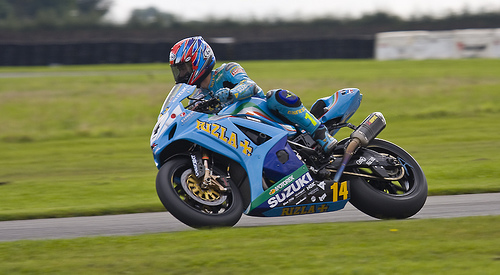helmet: (164, 39, 210, 78)
